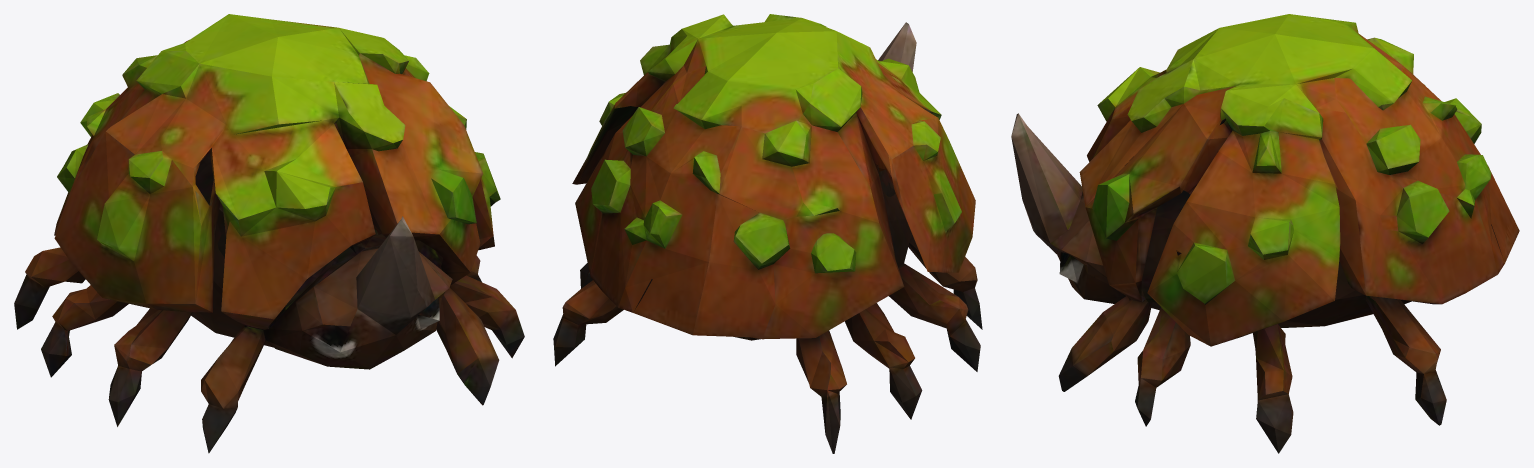
File: m_scarabee_ecorce.glb
3 renders of one model, left to right at view 1: azimuth 30°, elevation 25°; view 2: azimuth 150°, elevation 25°; view 3: azimuth 270°, elevation 25°, orthographic. The views are drawn at different scales.
Parts seen in each view (by area): view 1: geometry_0; view 2: geometry_0; view 3: geometry_0.
Part boxes in pixels (x1,y1,x2,y2): geometry_0: [14, 14, 524, 453]; geometry_0: [553, 14, 982, 453]; geometry_0: [1011, 14, 1519, 453].
Bounding box in the file's own units: 0.8896 × 0.7048 × 0.9981.
Materials: 1 (1 with a texture image).
